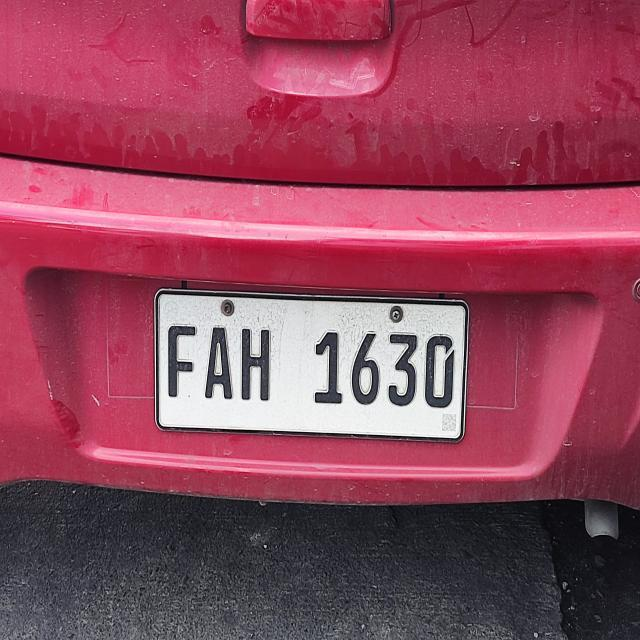LicensePlate: (143, 279, 480, 456)
